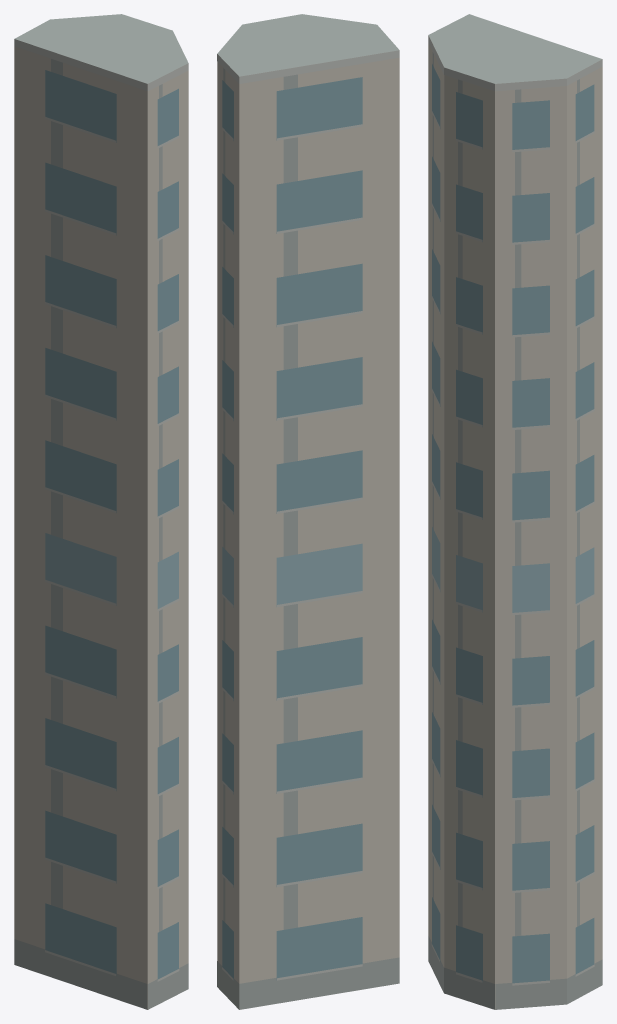
Rendered from survey-upis-32648461.glb.
The picture shows the model from 3 angles, left to right: view 1: azimuth 90°, elevation 25°; view 2: azimuth 150°, elevation 25°; view 3: azimuth 270°, elevation 25°; orthographic projection.
Parts seen in each view (by area): view 1: survey-upis-32648461.tmp; view 2: survey-upis-32648461.tmp; view 3: survey-upis-32648461.tmp.
Boxes of the visible parts, x1=… form: survey-upis-32648461.tmp: x1=14, y1=14, x2=188, y2=1009; survey-upis-32648461.tmp: x1=217, y1=14, x2=399, y2=1009; survey-upis-32648461.tmp: x1=428, y1=14, x2=602, y2=1009.
Bounding box in the file's own units: 4.95 × 30.5 × 5.21.
